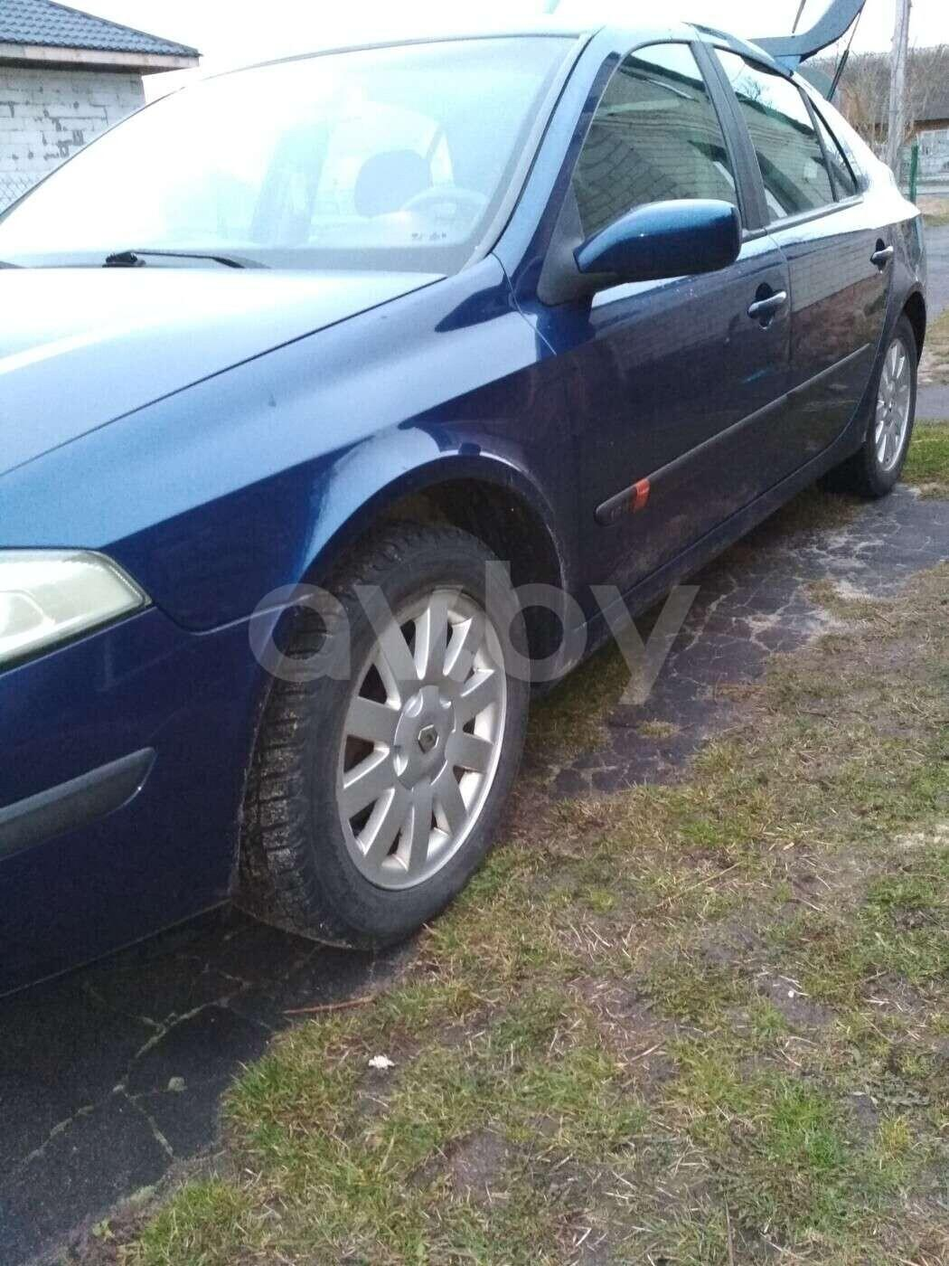Laguna_2001-2005: (0, 0, 926, 989)
